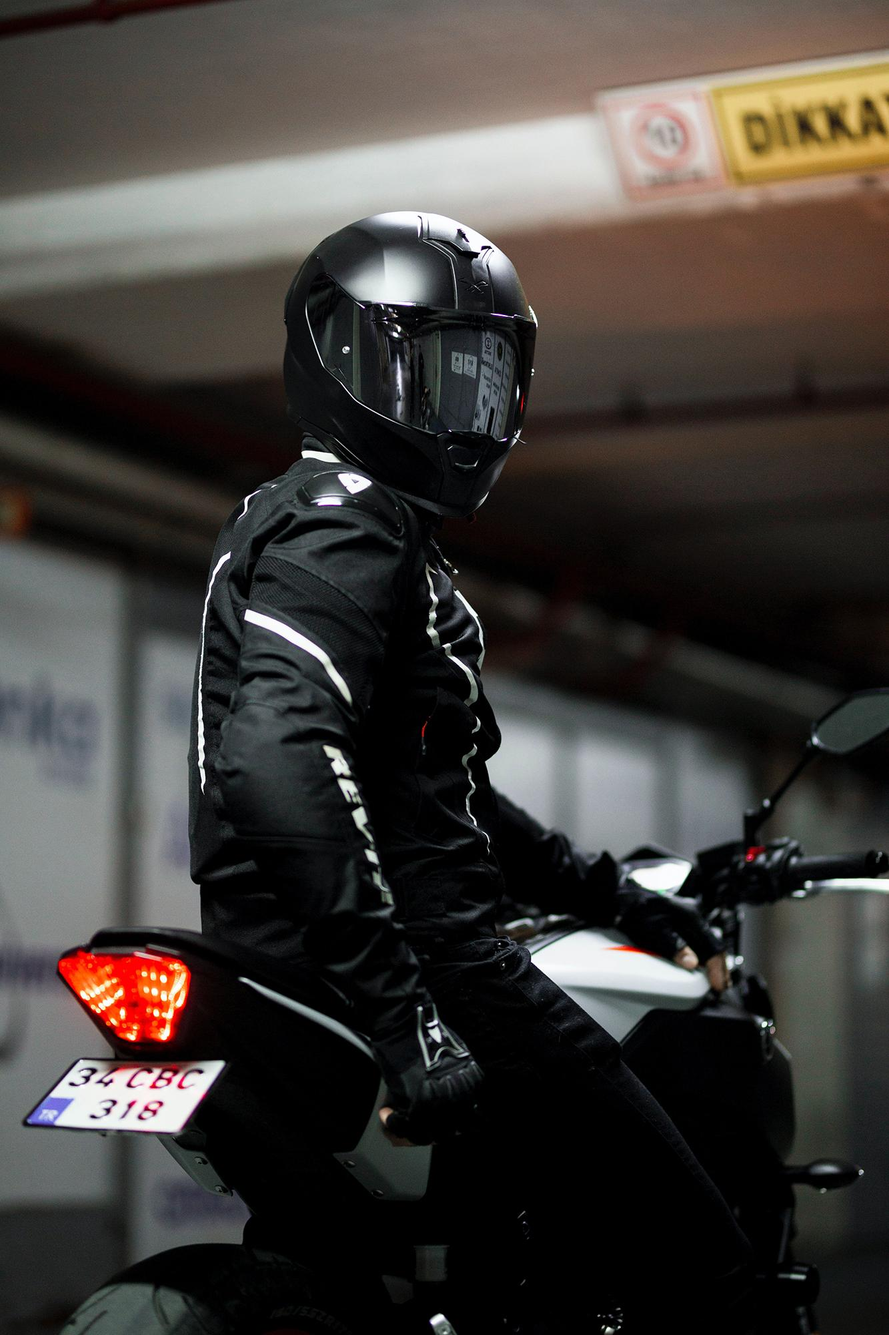helmet: (280, 209, 540, 533)
